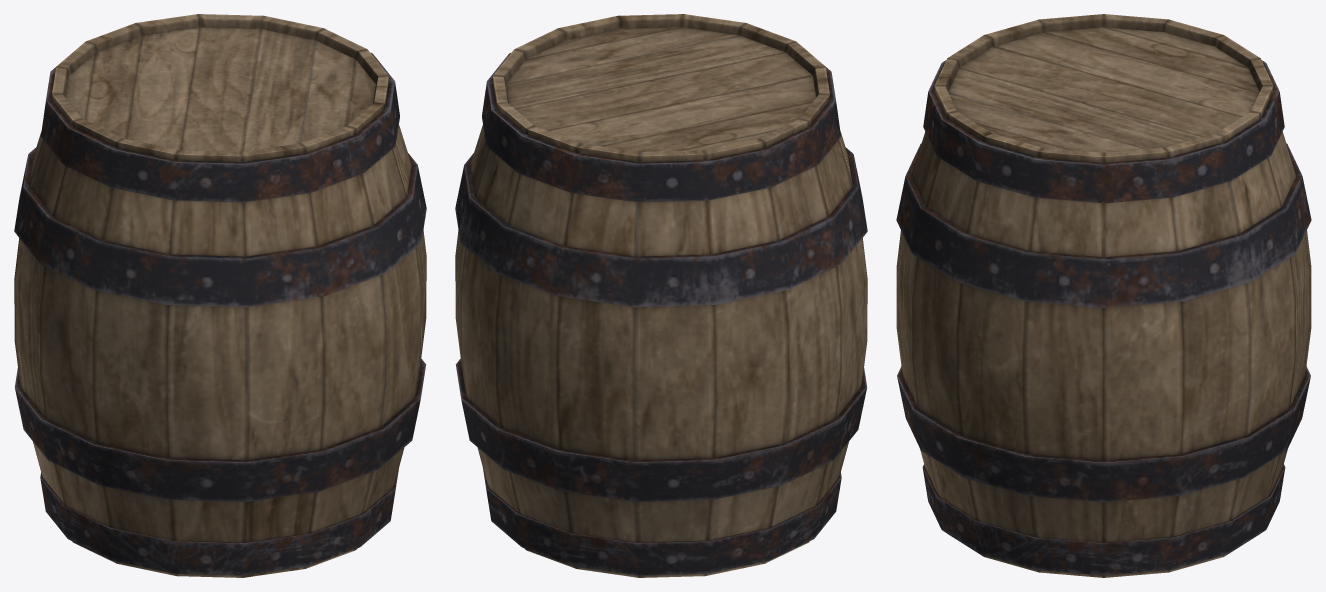
Rendered from sb_obj_outdoor034_Barrel.fbx.
3 views of the same model, side by side, from view 1: azimuth 30°, elevation 25°; view 2: azimuth 150°, elevation 25°; view 3: azimuth 270°, elevation 25° (orthographic).
Visible parts, largest first — view 1: sb_obj_outdoor034_Barrel; view 2: sb_obj_outdoor034_Barrel; view 3: sb_obj_outdoor034_Barrel.
Part boxes in pixels (x1,y1,x2,y2): sb_obj_outdoor034_Barrel: (14, 14, 426, 577); sb_obj_outdoor034_Barrel: (455, 14, 867, 577); sb_obj_outdoor034_Barrel: (896, 14, 1311, 577).
Bounding box in the file's own units: 0.8948 × 1 × 0.8948.
